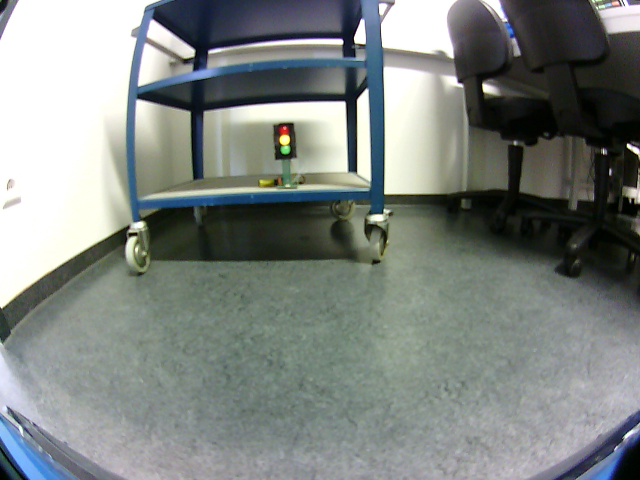yellow trafficlight: (274, 123, 294, 158)
